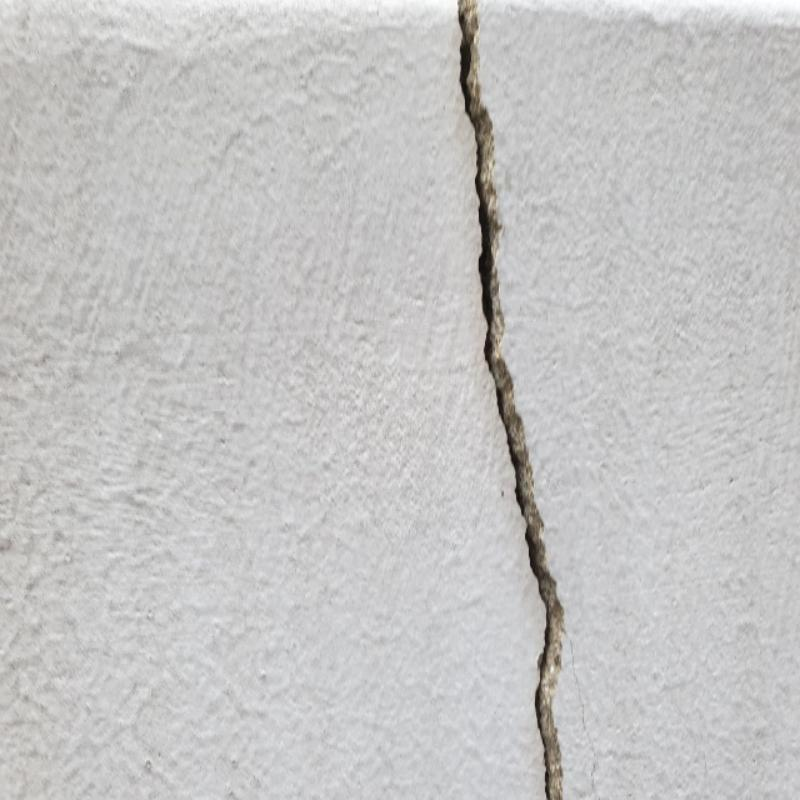pothole: (456, 0, 565, 799)
